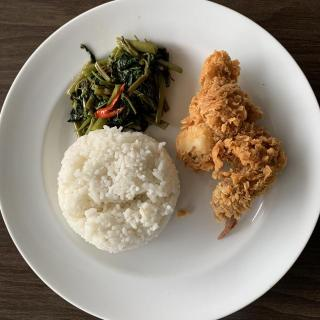Nasi: (59, 132, 183, 255)
